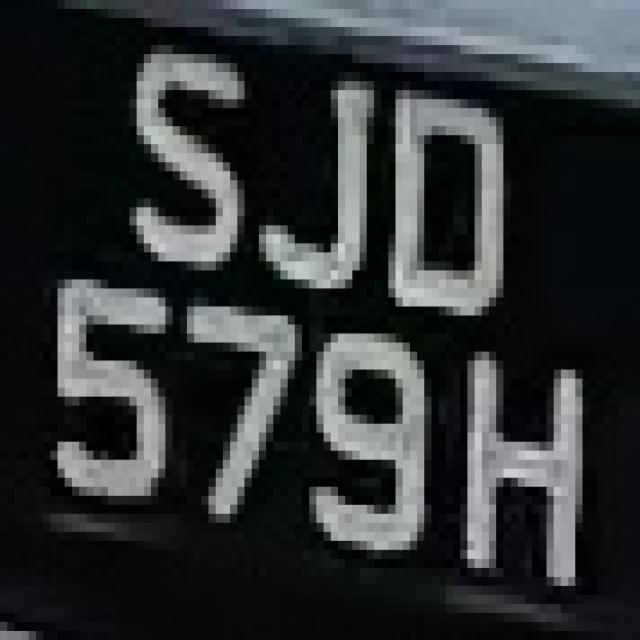5: (43, 234, 180, 514)
7: (151, 261, 309, 541)
9: (302, 288, 453, 586)
D: (388, 72, 511, 334)
H: (446, 333, 604, 595)
J: (252, 36, 381, 325)
S: (115, 9, 252, 288)
